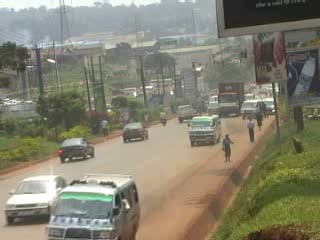Car: (4, 170, 71, 225), (55, 134, 97, 165), (121, 118, 150, 143)
Motorcycle: (157, 107, 169, 126)
